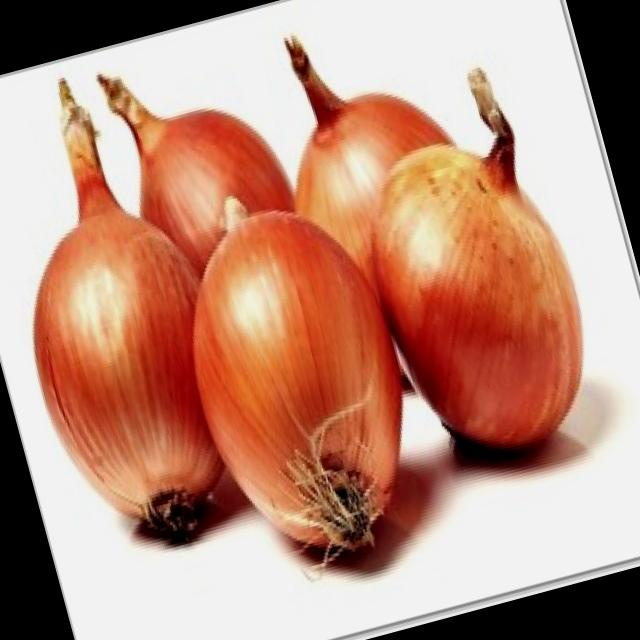onion: (166, 158, 447, 590), (351, 114, 627, 488), (0, 190, 229, 564), (266, 12, 493, 260), (108, 54, 288, 266)
